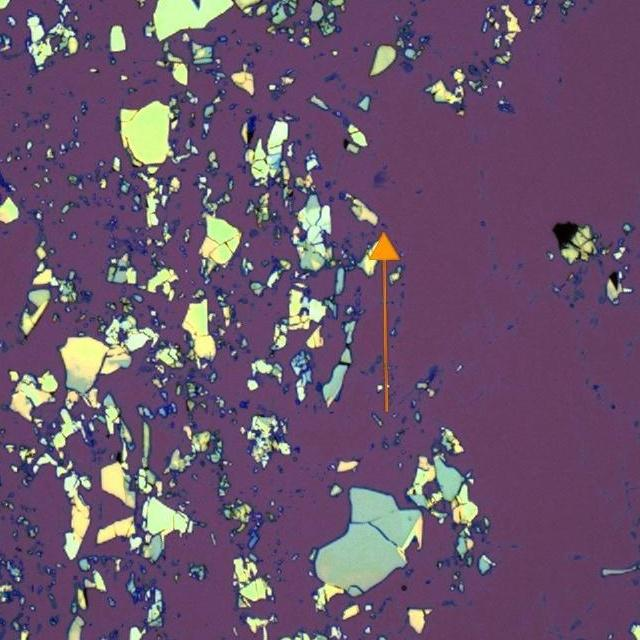monolayer-eWW4: (373, 170, 388, 186)
